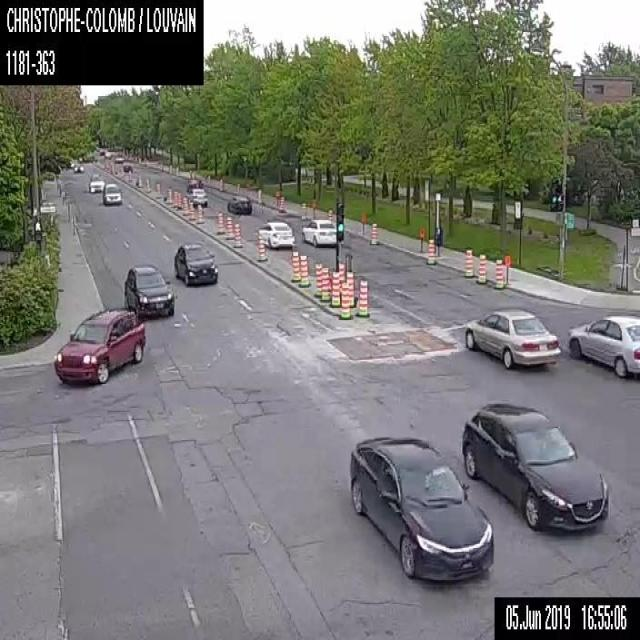construction: (356, 279, 369, 317), (338, 281, 351, 318), (328, 272, 341, 306), (298, 254, 310, 287), (319, 266, 330, 301), (476, 252, 487, 283), (255, 235, 268, 260), (313, 261, 322, 297), (346, 270, 355, 306), (492, 257, 502, 288), (290, 250, 300, 281), (425, 237, 436, 265), (462, 248, 472, 277), (233, 222, 242, 247), (216, 211, 225, 233), (504, 254, 510, 285), (225, 216, 233, 239), (187, 200, 196, 220), (370, 222, 378, 244), (418, 225, 424, 253), (361, 211, 367, 234), (196, 204, 203, 222), (182, 195, 188, 215), (311, 199, 317, 218), (339, 260, 344, 282), (300, 200, 306, 218), (278, 196, 284, 212), (256, 188, 262, 204), (173, 190, 178, 206), (177, 192, 182, 208), (274, 190, 279, 206), (155, 182, 160, 197), (144, 177, 149, 191), (167, 187, 171, 203), (327, 208, 333, 218), (137, 175, 142, 187), (219, 177, 223, 190), (236, 182, 240, 192), (207, 174, 210, 184)
vehicle: (348, 433, 494, 582), (461, 400, 609, 532), (53, 308, 145, 384), (464, 305, 560, 369), (567, 312, 639, 383), (124, 263, 174, 316), (173, 240, 219, 285), (257, 217, 295, 248), (300, 215, 335, 245), (224, 192, 252, 217), (185, 187, 207, 206), (102, 183, 120, 204), (88, 172, 104, 191), (103, 148, 113, 160), (123, 160, 132, 171), (114, 151, 123, 160), (74, 162, 82, 172), (70, 161, 76, 166), (636, 320, 639, 324)
